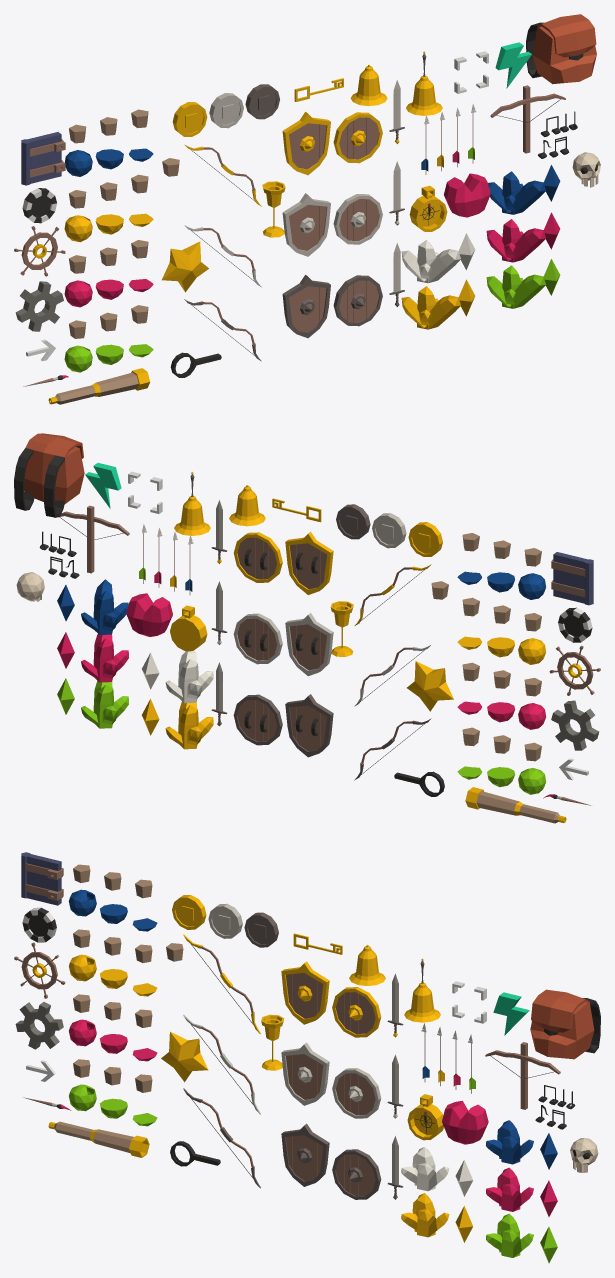
File: iconsAndObjects.obj
3 renders of one model, top to bottom at view 1: azimuth 30°, elevation 25°; view 2: azimuth 150°, elevation 25°; view 3: azimuth 330°, elevation 25°, orthographic.
Parts seen in each view (by area): view 1: backpack_Cube.020, shieldSteel_Cube.003, shieldWood_Cube.012, shieldGold_Cube.007, book_Cube.026, shieldRoundWood_Cube.011, shieldRoundGold_Cube.008, shieldRoundSteel_Cube.002, heart_Cube, crystalClusterRed_Cylinder.011, crystalClusterGreen_Cylinder.010, crystalClusterGold_Cylinder.008 (+29 smaller); view 2: backpack_Cube.020, shieldWood_Cube.012, shieldSteel_Cube.003, shieldGold_Cube.007, shieldRoundSteel_Cube.002, shieldRoundGold_Cube.008, shieldRoundWood_Cube.011, book_Cube.026, heart_Cube, spyGlass_Cylinder.021, crystalClusterBlue_Cylinder.012, crystalClusterWhite_Cylinder.006 (+29 smaller); view 3: backpack_Cube.020, shieldWood_Cube.012, shieldSteel_Cube.003, shieldGold_Cube.007, shieldRoundWood_Cube.011, shieldRoundSteel_Cube.002, shieldRoundGold_Cube.008, book_Cube.026, heart_Cube, spyGlass_Cylinder.021, gear_Cylinder.025, star_Cylinder.019 (+28 smaller).
Boxes of the visible parts, x1,y1,x2,y2 form: backpack_Cube.020: [526, 14, 596, 84]; shieldSteel_Cube.003: [282, 193, 330, 256]; shieldWood_Cube.012: [282, 275, 330, 338]; shieldGold_Cube.007: [282, 112, 330, 175]; book_Cube.026: [21, 132, 65, 185]; shieldRoundWood_Cube.011: [333, 275, 382, 326]; shieldRoundGold_Cube.008: [333, 112, 382, 163]; shieldRoundSteel_Cube.002: [333, 194, 382, 244]; heart_Cube: [444, 173, 490, 217]; crystalClusterRed_Cylinder.011: [486, 219, 545, 262]; crystalClusterGreen_Cylinder.010: [486, 265, 545, 308]; crystalClusterGold_Cylinder.008: [401, 286, 460, 329]; backpack_Cube.020: [14, 433, 84, 517]; shieldWood_Cube.012: [285, 694, 333, 757]; shieldSteel_Cube.003: [285, 613, 333, 676]; shieldGold_Cube.007: [285, 532, 333, 594]; shieldRoundSteel_Cube.002: [233, 613, 282, 664]; shieldRoundGold_Cube.008: [233, 532, 282, 582]; shieldRoundWood_Cube.011: [233, 694, 282, 745]; book_Cube.026: [551, 552, 593, 605]; heart_Cube: [126, 593, 172, 636]; spyGlass_Cylinder.021: [465, 787, 566, 823]; crystalClusterBlue_Cylinder.012: [81, 579, 128, 634]; crystalClusterWhite_Cylinder.006: [165, 650, 213, 703]; backpack_Cube.020: [530, 989, 600, 1059]; shieldWood_Cube.012: [281, 1123, 329, 1186]; shieldSteel_Cube.003: [281, 1042, 329, 1105]; shieldGold_Cube.007: [281, 961, 329, 1024]; shieldRoundWood_Cube.011: [332, 1149, 381, 1199]; shieldRoundSteel_Cube.002: [332, 1068, 381, 1118]; shieldRoundGold_Cube.008: [332, 987, 381, 1037]; book_Cube.026: [21, 852, 63, 905]; heart_Cube: [442, 1100, 488, 1144]; spyGlass_Cylinder.021: [48, 1121, 149, 1157]; gear_Cylinder.025: [15, 1002, 63, 1049]; star_Cylinder.019: [161, 1031, 208, 1082].
Size of the model in its own units: 37.49 by 17.36 by 4.09.
2 materials, 2 textured.
